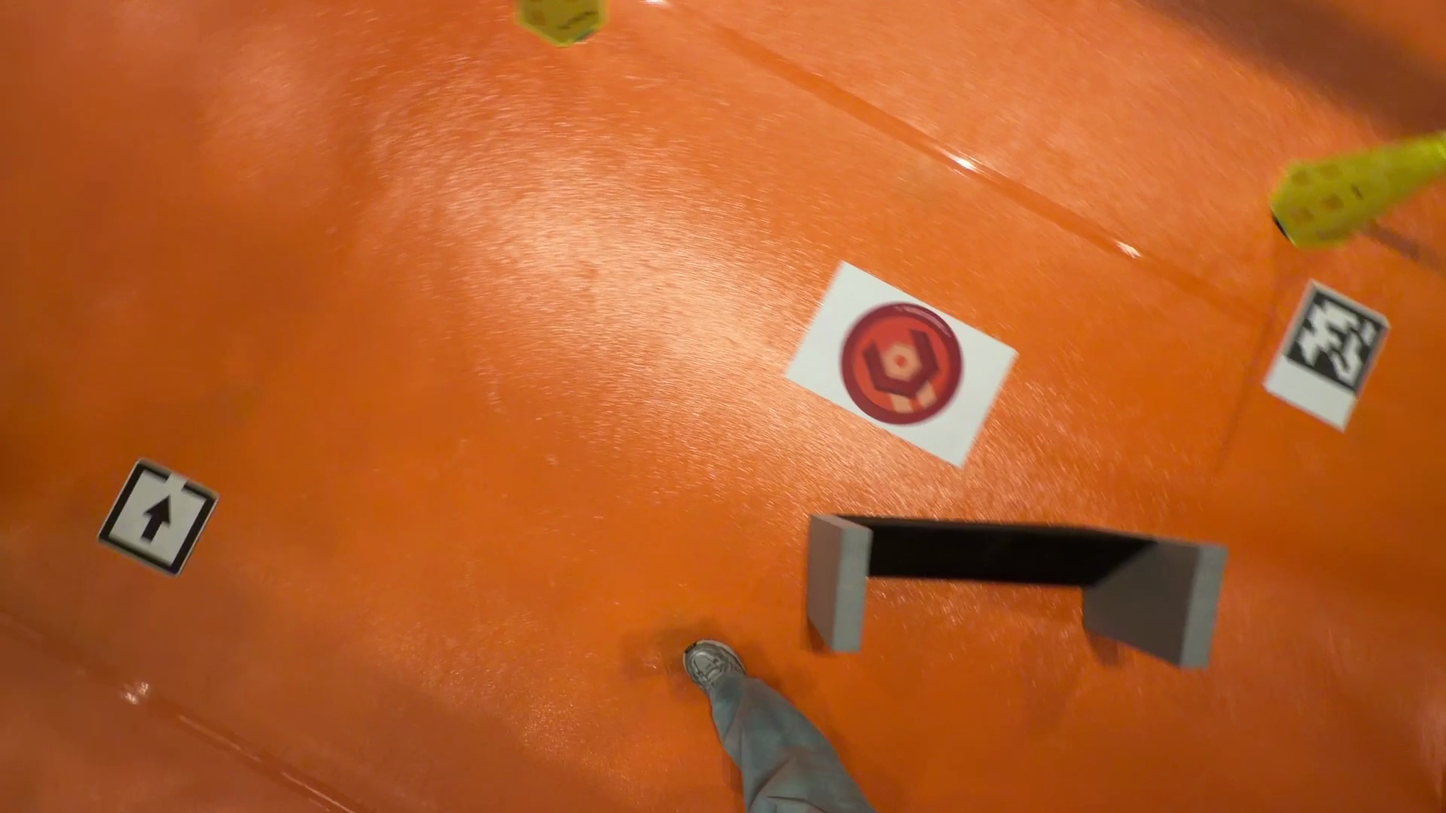landing_pad: (841, 306, 966, 425)
